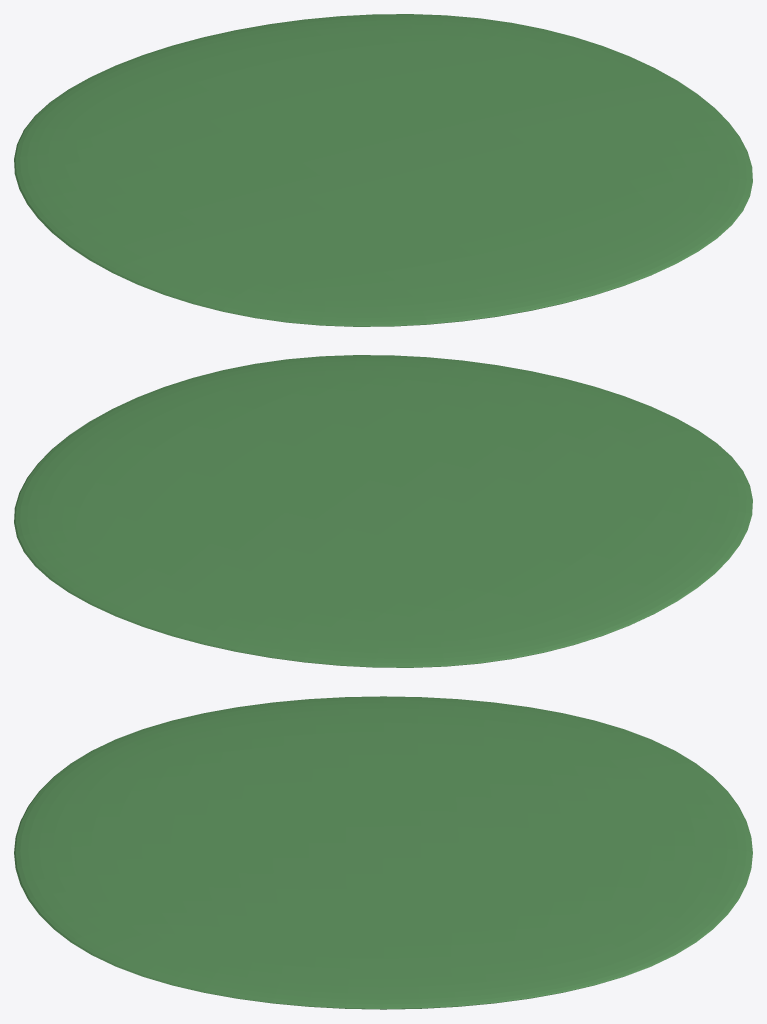
The model's file is terreno-pleno.glb.
The picture shows the model from 3 angles, top to bottom: view 1: azimuth 30°, elevation 25°; view 2: azimuth 150°, elevation 25°; view 3: azimuth 270°, elevation 25°; orthographic projection.
Parts seen in each view (by area): view 1: Terrain; view 2: Terrain; view 3: Terrain.
Boxes of the visible parts, box(x1,y1,x2,y2) form: Terrain: box(14, 14, 752, 326); Terrain: box(14, 355, 752, 667); Terrain: box(14, 696, 752, 1009).
Bounding box in the file's own units: 26.6 × 0.8395 × 26.6.
